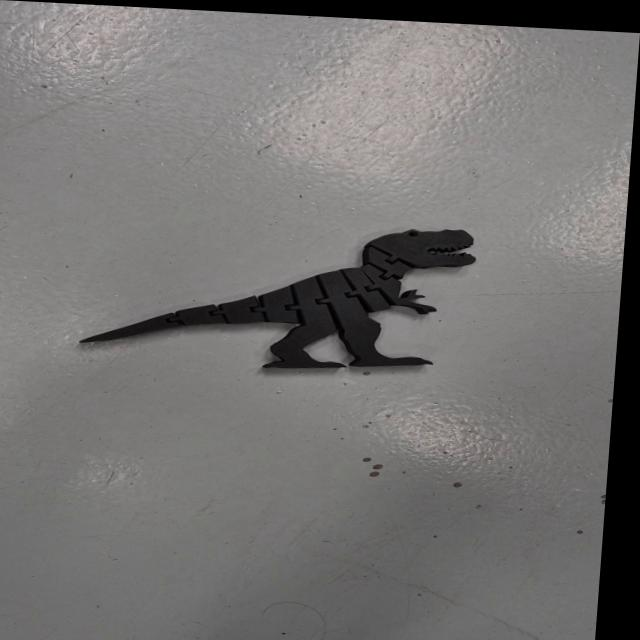dino: (76, 209, 479, 380)
